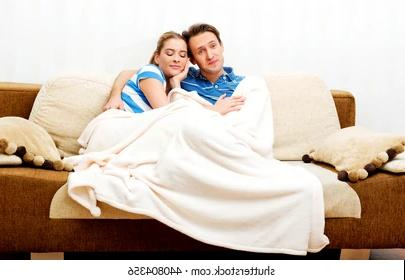blanket: (66, 74, 331, 257)
short sleeve shirt: (178, 66, 247, 107), (119, 63, 166, 114)
